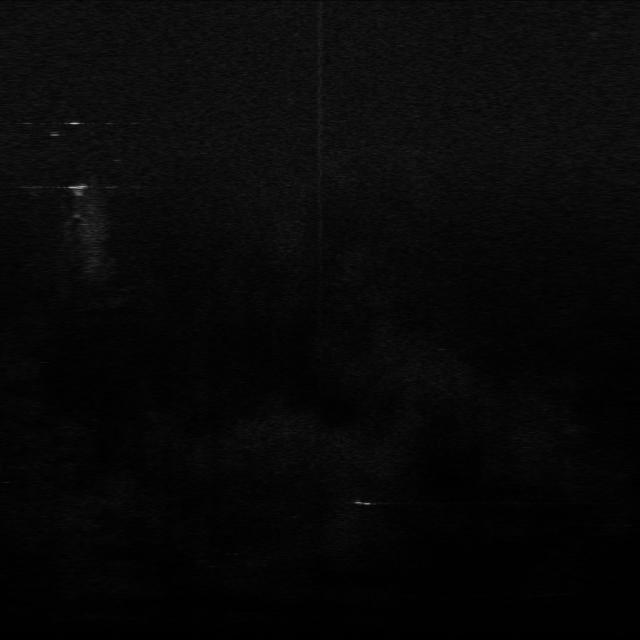rov: (64, 180, 95, 198)
